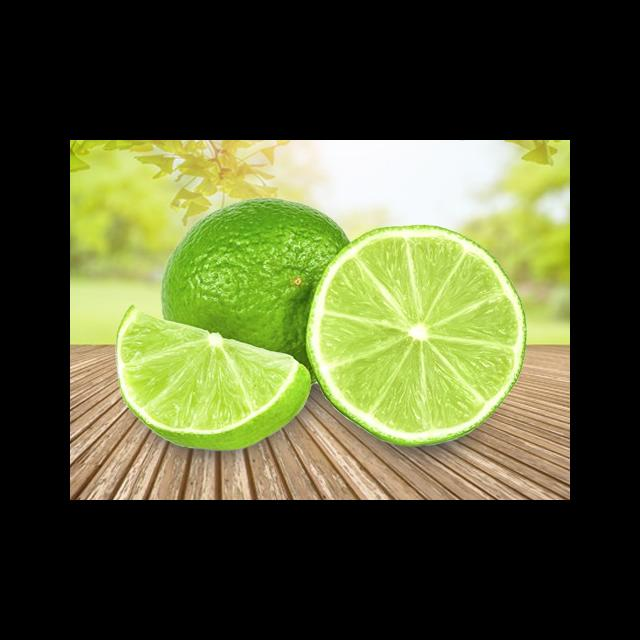lime: (303, 215, 533, 453), (158, 200, 354, 390), (115, 303, 313, 460)
